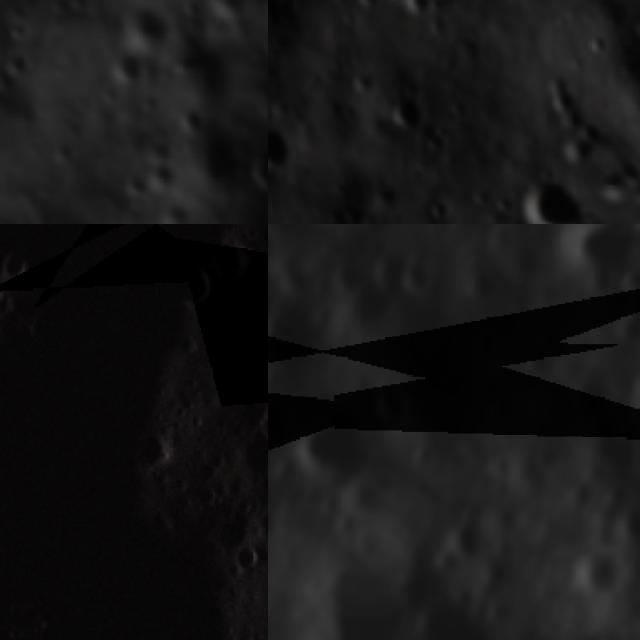crater: (268, 0, 388, 176), (270, 533, 425, 640), (381, 361, 506, 493), (282, 392, 388, 498), (268, 286, 335, 387), (389, 590, 509, 640), (505, 160, 582, 224), (162, 252, 228, 320), (379, 86, 445, 152), (110, 0, 175, 66), (598, 499, 640, 599), (356, 238, 416, 306), (449, 243, 507, 311), (268, 111, 315, 194), (124, 416, 182, 480), (564, 545, 624, 603), (388, 254, 445, 314), (206, 226, 266, 280), (230, 414, 268, 494), (415, 116, 469, 170), (342, 469, 393, 526), (439, 512, 490, 569), (288, 224, 382, 254), (99, 44, 150, 99), (317, 249, 368, 301), (219, 534, 268, 584), (268, 382, 301, 456), (385, 0, 454, 34), (364, 380, 411, 428), (232, 140, 268, 202), (556, 131, 603, 178), (540, 84, 586, 130), (580, 401, 626, 446), (345, 61, 389, 105), (347, 525, 391, 568), (478, 449, 522, 490), (463, 324, 504, 367), (601, 311, 640, 353), (582, 26, 622, 66), (596, 478, 636, 516), (560, 477, 598, 517), (420, 191, 461, 224), (616, 288, 640, 339), (528, 322, 562, 357), (612, 261, 640, 303), (268, 224, 288, 278), (622, 381, 640, 441), (323, 198, 364, 224), (268, 503, 285, 549), (625, 4, 640, 52), (338, 8, 364, 34), (624, 362, 640, 402)
